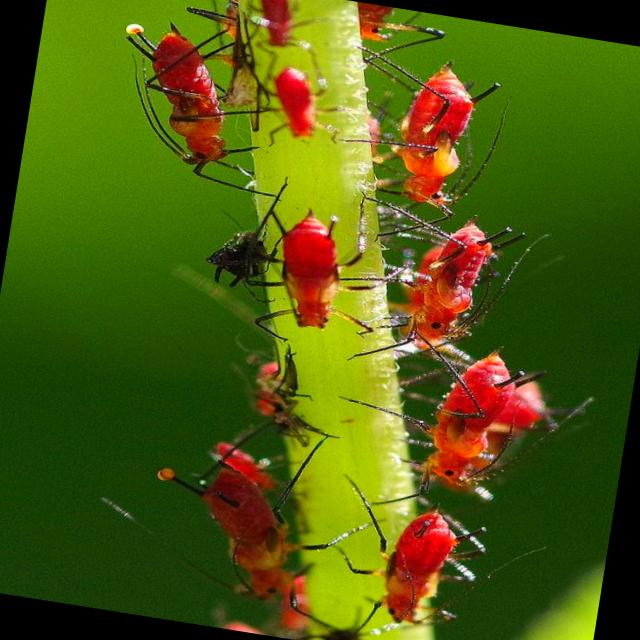Aphids: (84, 2, 289, 202), (238, 196, 428, 377), (138, 442, 338, 600), (361, 196, 525, 375), (336, 485, 506, 640), (363, 43, 511, 214), (406, 345, 548, 517)
